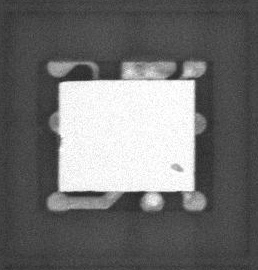DIE_INK: (161, 170, 176, 182)
